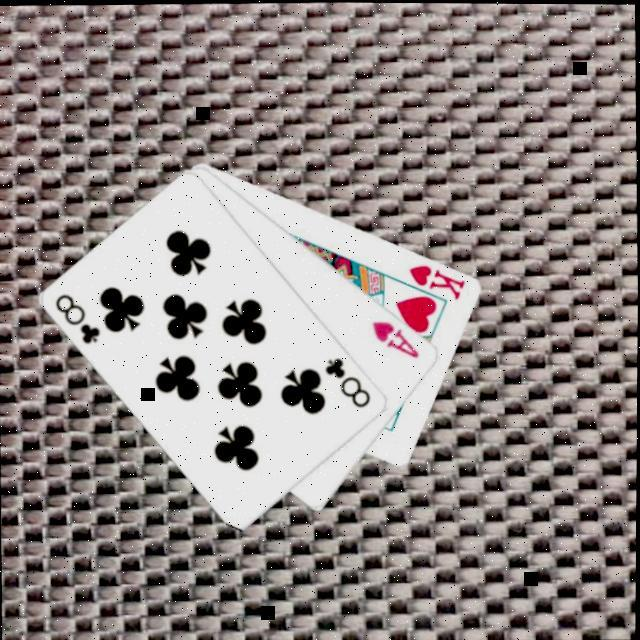8C: (49, 290, 102, 350), (320, 354, 372, 413)
AH: (366, 318, 422, 363)
KH: (404, 261, 468, 304)
